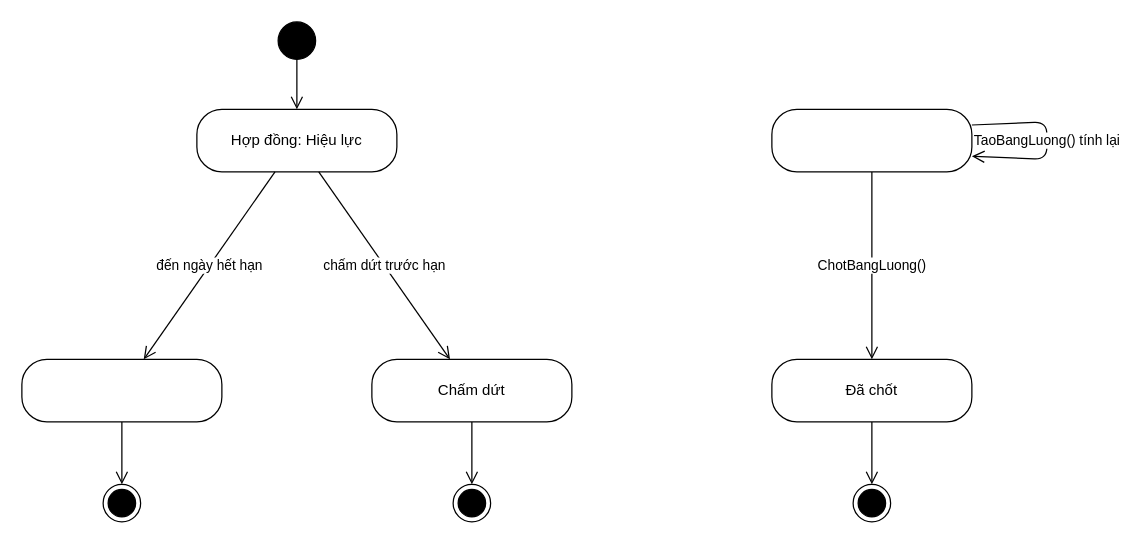
The diagram is 1141 pixels wide and 544 high, and some of its shapes have lost their labels. The centre of each missing label's shape, as x and y in pixels:
Bảng lương: Nháp: the point at 871,140
Hết hạn: the point at 121,390
